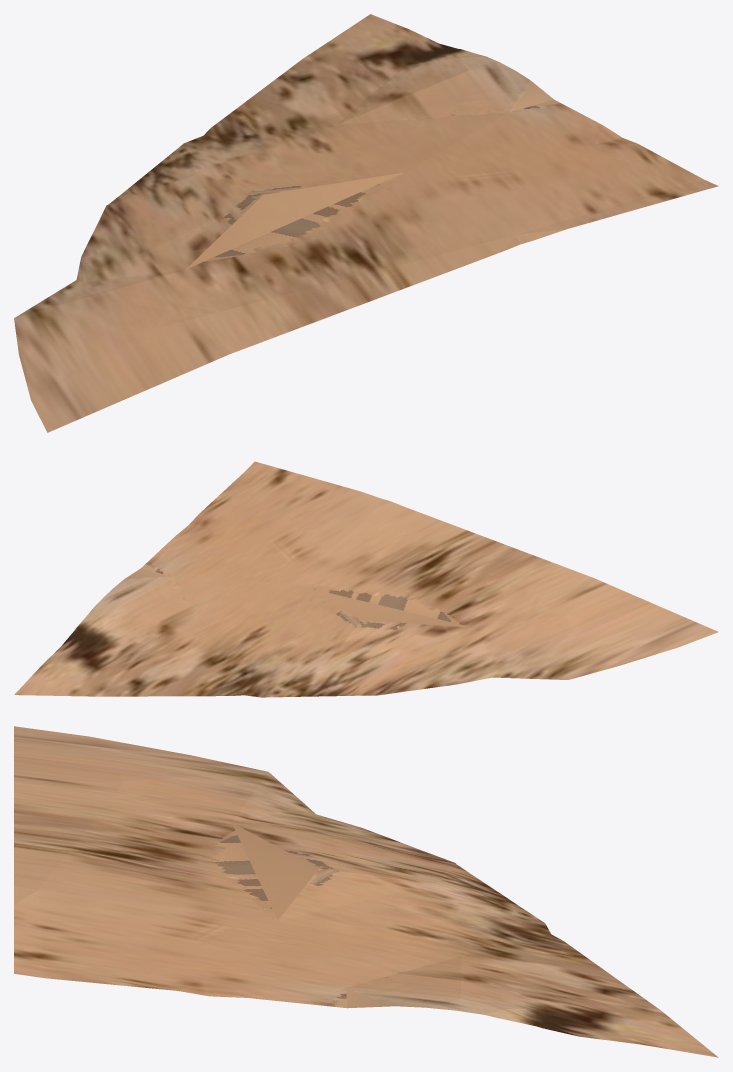
The picture shows the model from 3 angles, top to bottom: view 1: azimuth 30°, elevation 25°; view 2: azimuth 150°, elevation 25°; view 3: azimuth 270°, elevation 25°; orthographic projection. The views are drawn at different scales.
Bounding box in the file's own units: 1.88 × 0.2219 × 1.69.
2 materials, 2 textured.
